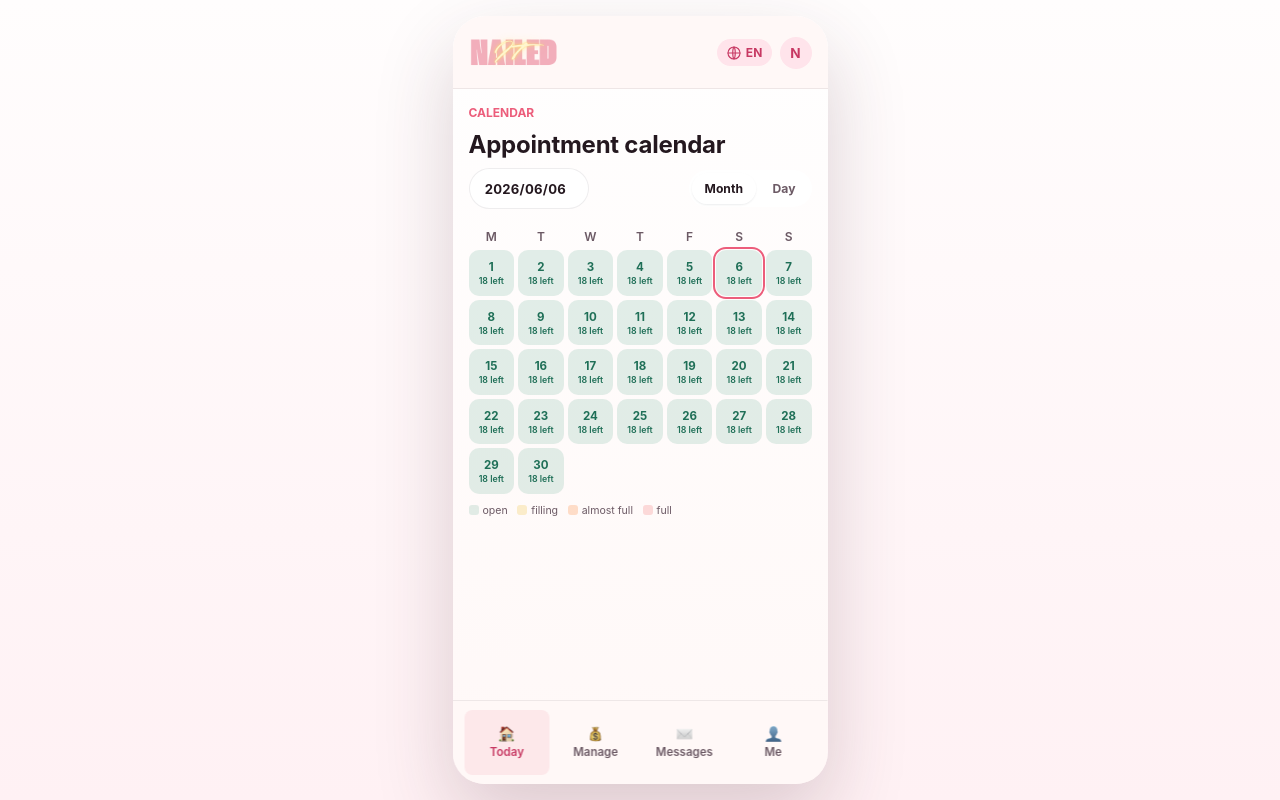
MerchantSchedulePage (full calendar) › changes the visible month and day schedule when the date input changes
The image size is (1280, 800).
Step 1. Type "2026-05-23" into the date field named "choose calendar date" → (528, 189), box [468,168,588,209]
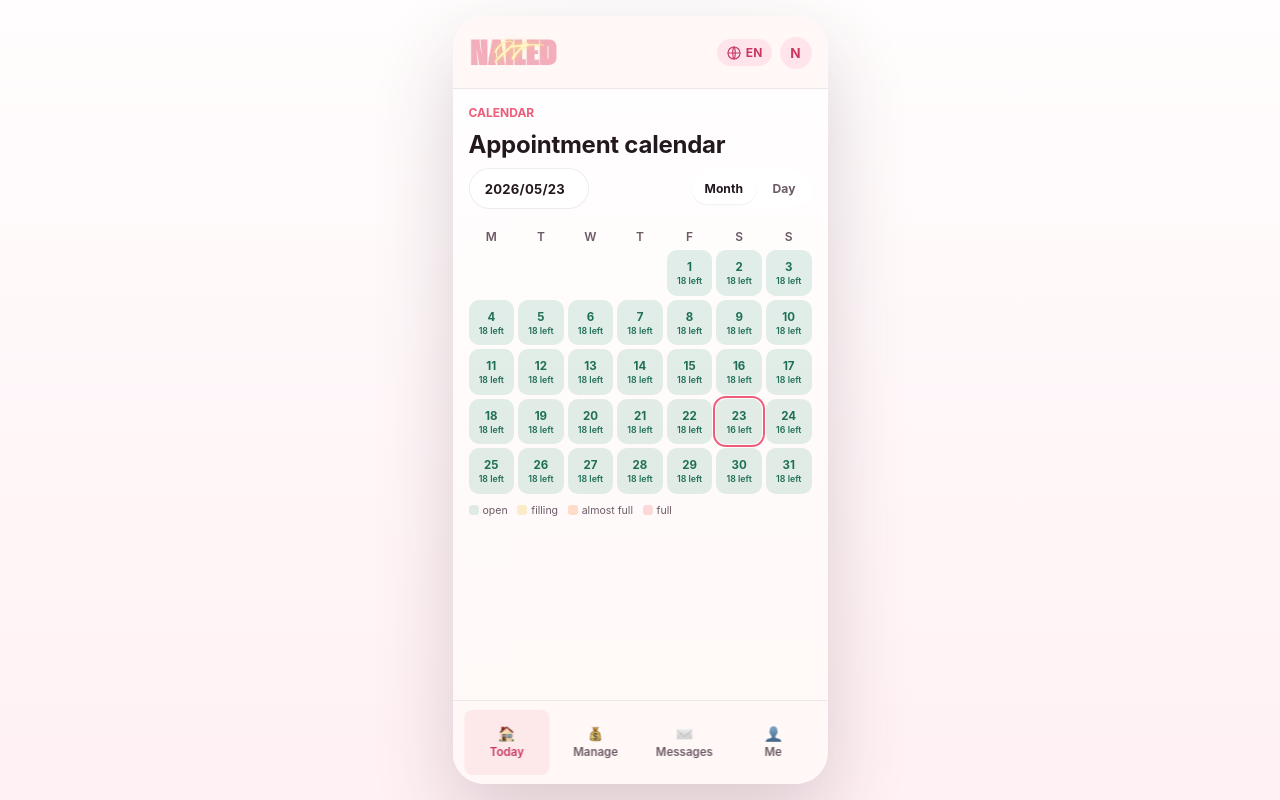
Expected: the button "2026/05/23" is shown, [468,168,588,209]
Expected: the element named "may 2026 — spots left per day" is shown, [468,229,812,517]
Step 2. Click the tab "Day" → (784, 189), box [760,173,808,204]
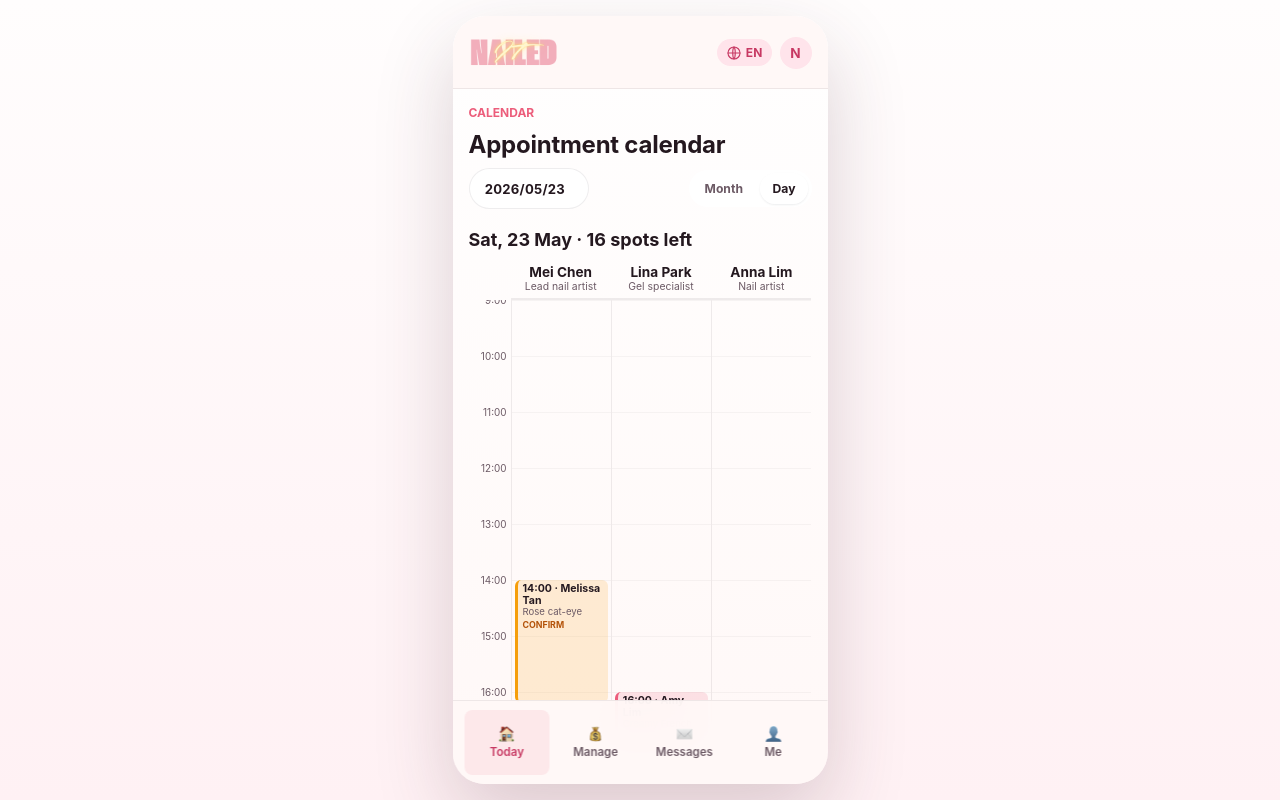
Expected: the heading "Sat, 23 May · 16 spots left" is shown, [468,229,692,250]
